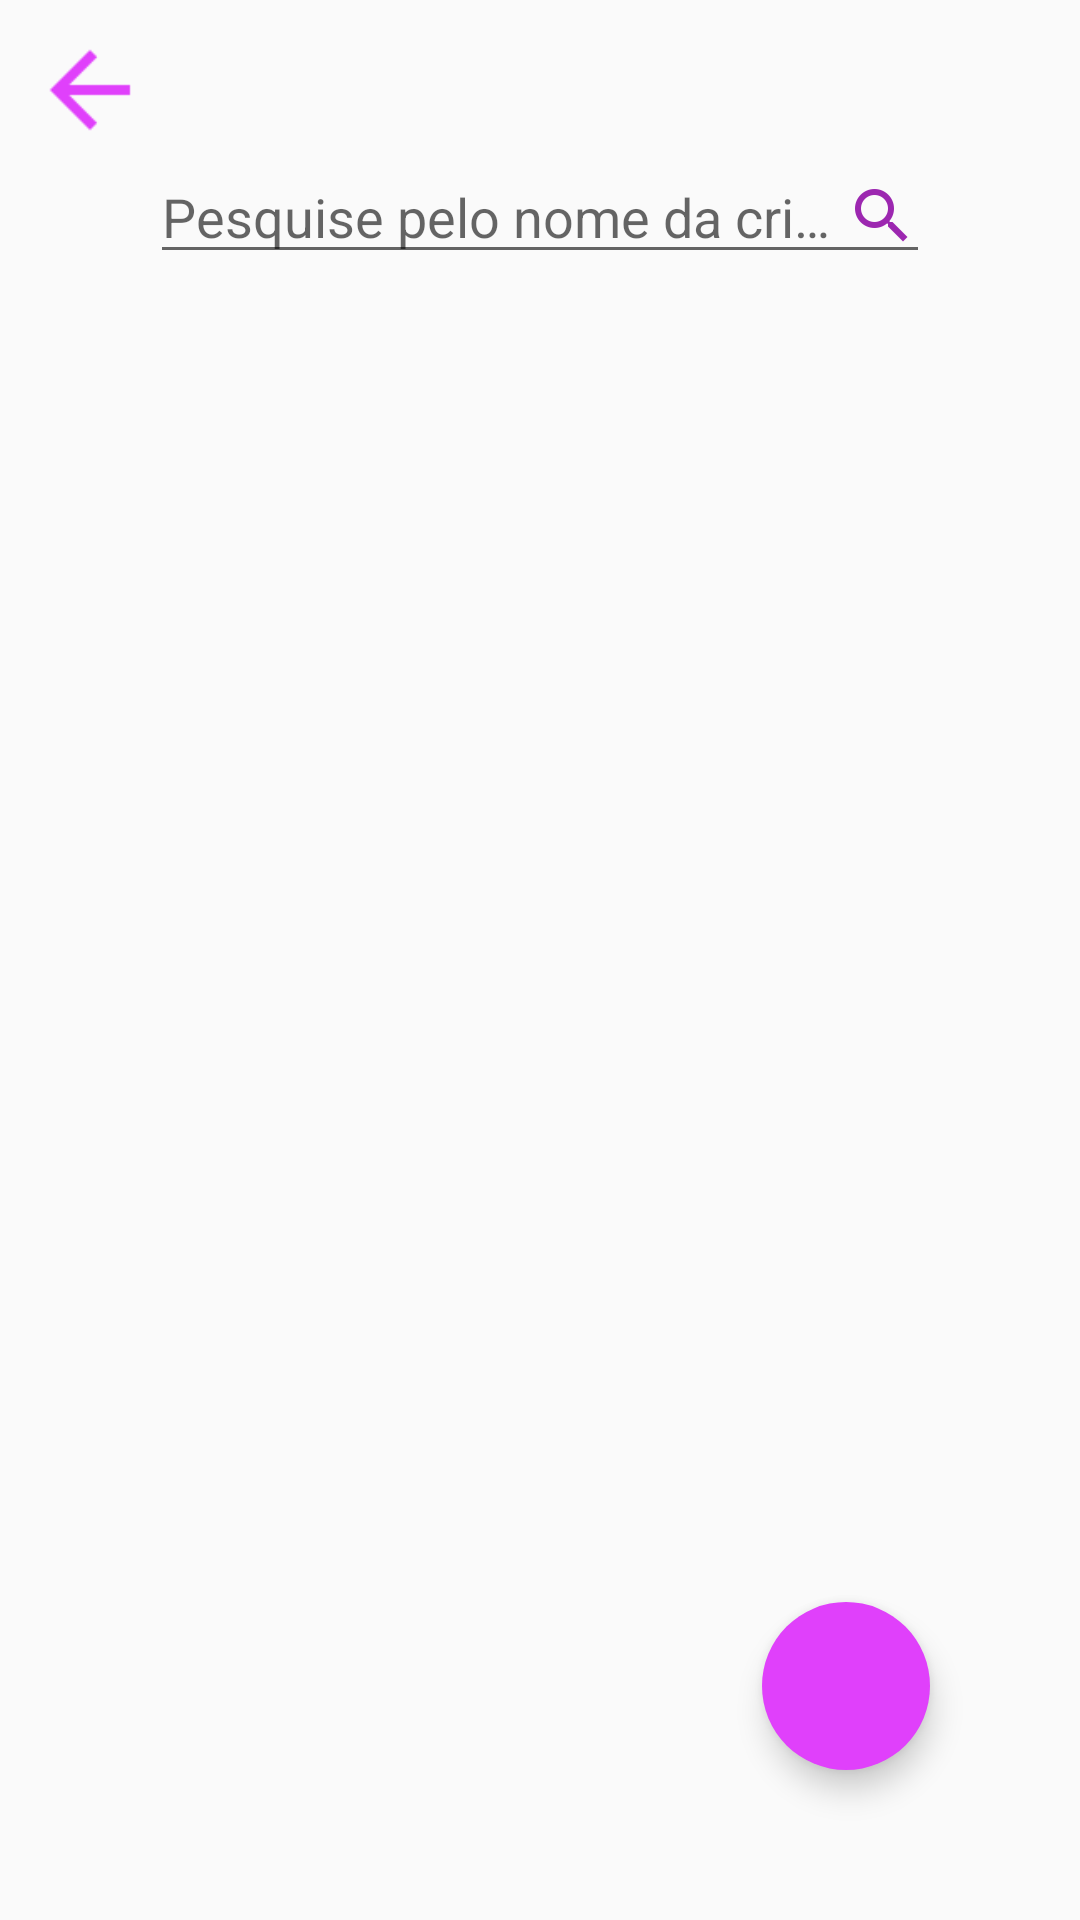

Named icons in this screenshot (1080w x 1920h) and their centers, (x=x, y=y):
arrow back: (x=90, y=90)
